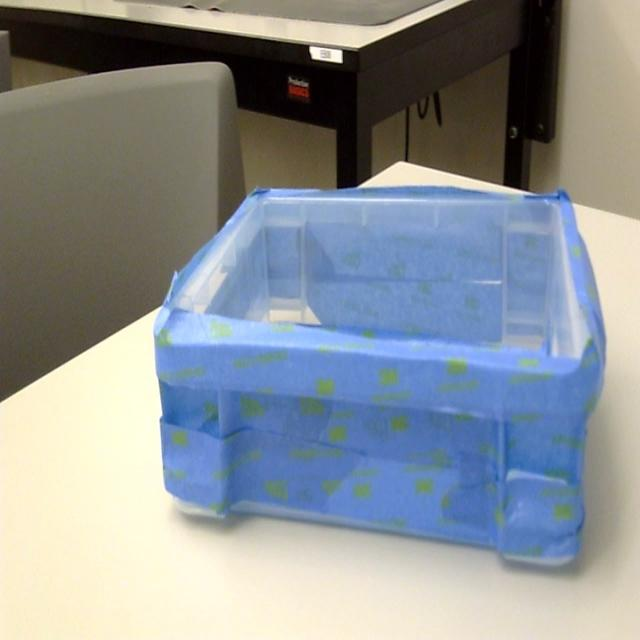bucket: (151, 187, 608, 576)
